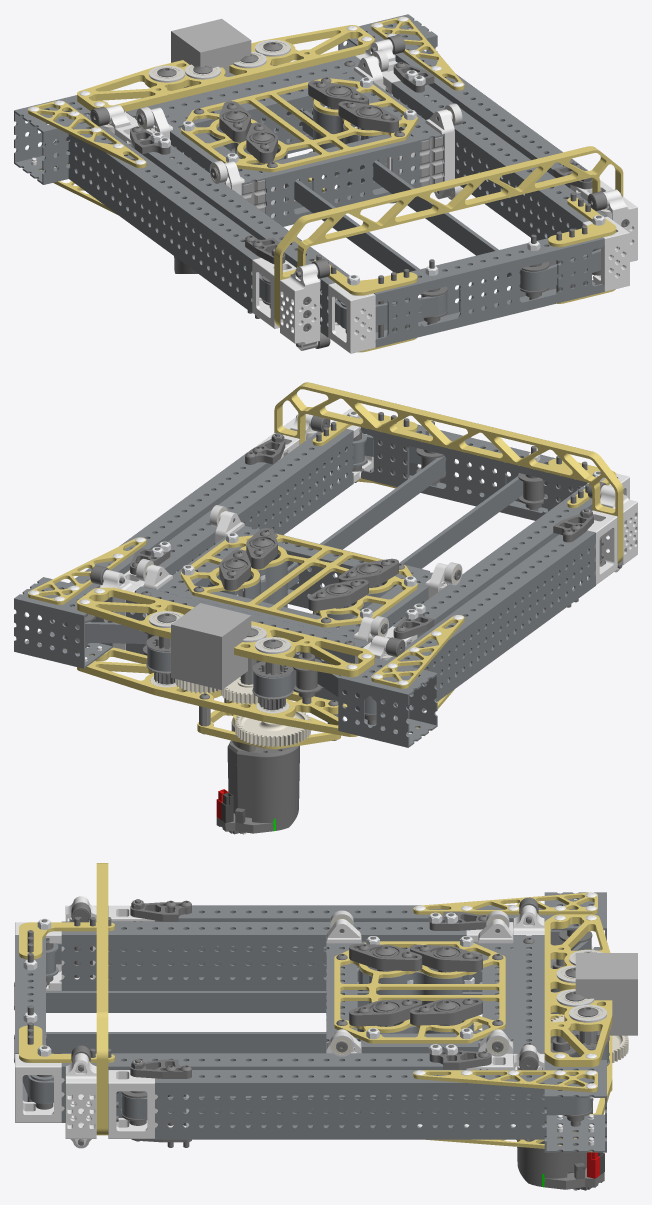
The model's file is belt-in-tube-elevator.glb.
3 renders of one model, top to bottom at view 1: azimuth 30°, elevation 25°; view 2: azimuth 150°, elevation 25°; view 3: azimuth 270°, elevation 25°, orthographic. The views are drawn at different scales.
Visible parts, largest first — view 1: Part 10, Part 2, Part 32, Part 12, Part 6, Part 17, Part 28, WCP-2113-001 Rev1 (×3), Part 13, WCP-2072-001 Rev1 (×2), Part 26, Part 11 (+18 smaller); view 2: Part 10, Part 12, Part 32, Part 2, Part 28, Part 4, Part 17, Origin Cube, Kraken X60 Brushless Motor, Part 3, Part 14, Part 27 (+22 smaller); view 3: Part 11, Part 13, Part 27, Part 26, Part 28, Part 12, WCP-2113-001 Rev1 (×4), Ratchet Plate (1/2" Hex) (×4), Part 17, Part 10, Origin Cube, Part 8 (+20 smaller).
Boxes of the visible parts, x1,y1,x2,y2 form: Part 10: (68, 120, 271, 313); Part 2: (374, 237, 604, 347); Part 32: (274, 146, 623, 326); Part 12: (391, 80, 608, 240); Part 6: (258, 130, 419, 226); Part 17: (77, 25, 374, 111); Part 28: (181, 78, 417, 172); WCP-2113-001 Rev1 (×3): (238, 216, 629, 353); Part 13: (139, 145, 349, 337); WCP-2072-001 Rev1 (×2): (280, 189, 637, 350); Part 26: (66, 136, 447, 327); Part 11: (395, 44, 587, 187); Part 10: (387, 530, 595, 711); Part 12: (158, 425, 353, 575); Part 32: (274, 382, 623, 563); Part 2: (361, 424, 587, 520); Part 28: (181, 533, 417, 627); Part 4: (338, 658, 437, 747); Part 17: (77, 587, 374, 677); Origin Cube: (171, 603, 251, 689); Kraken X60 Brushless Motor: (227, 740, 299, 830); Part 3: (14, 577, 113, 668); Part 14: (77, 647, 358, 736); Part 27: (64, 434, 446, 671); Part 11: (155, 1070, 544, 1139); Part 13: (61, 921, 466, 990); Part 27: (14, 1031, 608, 1118); Part 26: (14, 930, 591, 1013); Part 28: (334, 941, 505, 1043); Part 12: (61, 1053, 466, 1122); WCP-2113-001 Rev1 (×4): (15, 905, 189, 1138); Ratchet Plate (1/2" Hex) (×4): (349, 944, 482, 1026); Part 17: (544, 914, 612, 1066); Part 10: (155, 905, 544, 921); Origin Cube: (575, 953, 637, 1035); Part 8: (513, 935, 544, 1053).
Size of the model in its own units: 0.3937 by 0.2325 by 0.5088.
